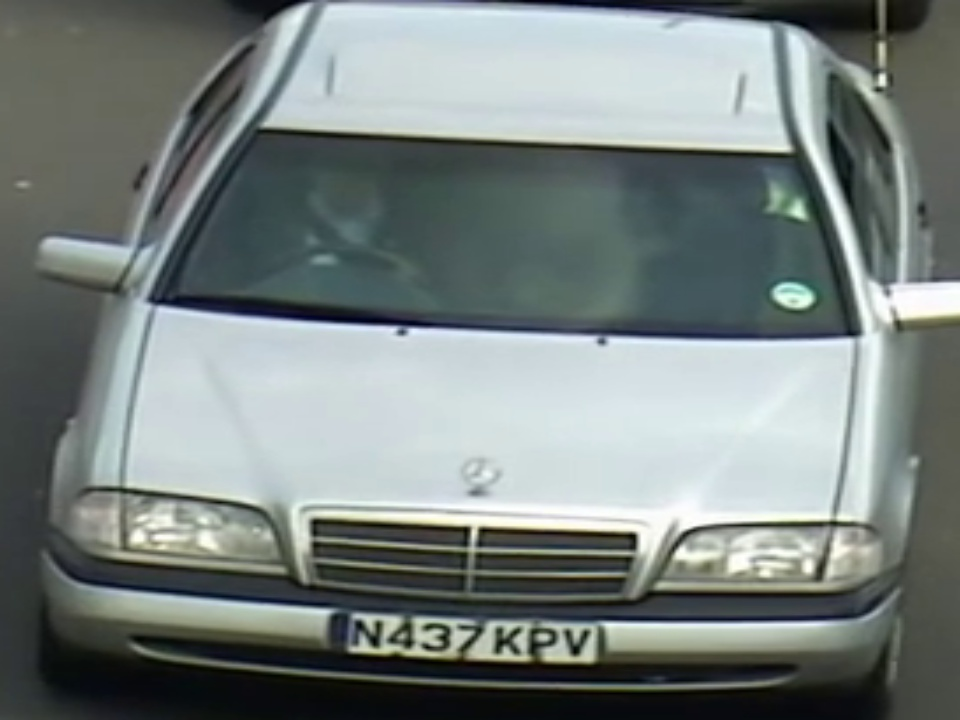ONE: (231, 128, 825, 347)
